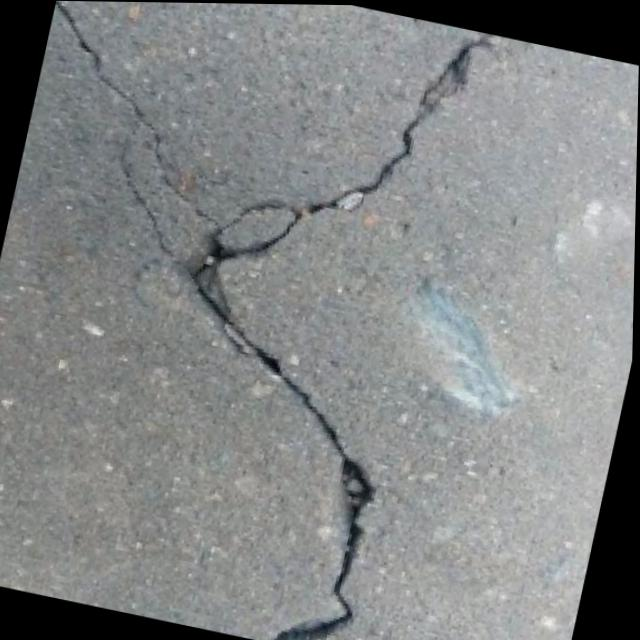Crack: (20, 191, 508, 640), (98, 1, 518, 370)
